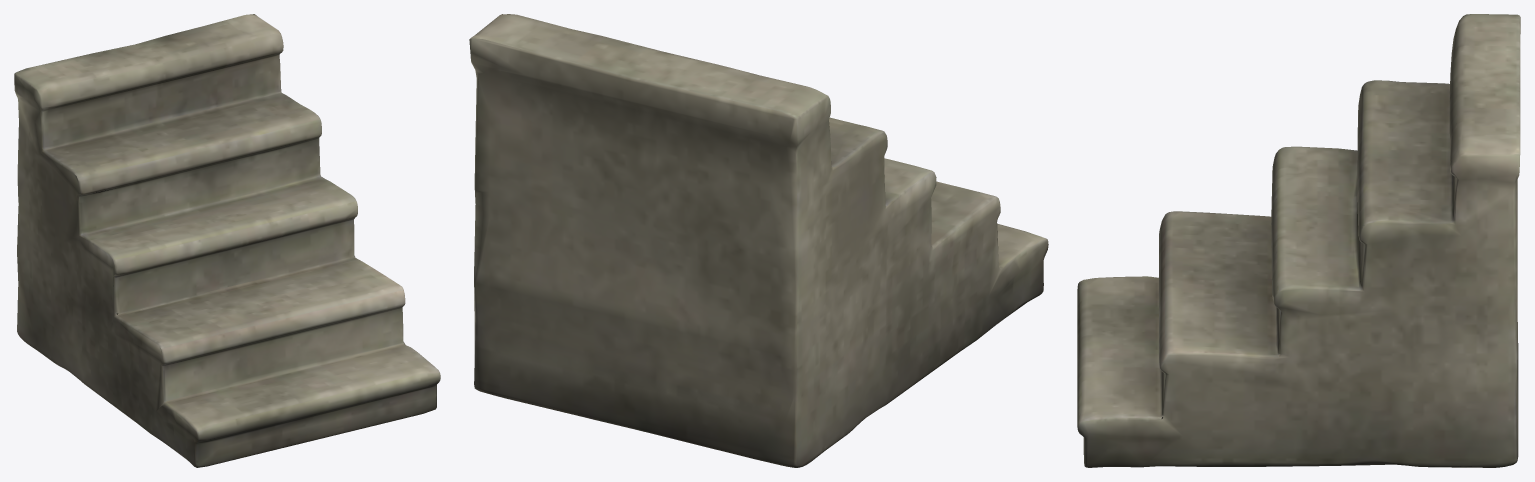
Rendered from chipped-limestone-steps-v001.glb.
The picture shows the model from 3 angles, left to right: view 1: azimuth 30°, elevation 25°; view 2: azimuth 150°, elevation 25°; view 3: azimuth 270°, elevation 25°; orthographic projection. The views are drawn at different scales.
Parts seen in each view (by area): view 1: chipped-limestone-steps; view 2: chipped-limestone-steps; view 3: chipped-limestone-steps.
Boxes of the visible parts, left/top/right/bottom form: chipped-limestone-steps: left=14, top=14, right=440, bottom=467; chipped-limestone-steps: left=469, top=14, right=1048, bottom=467; chipped-limestone-steps: left=1077, top=14, right=1520, bottom=467.
Size of the model in its own units: 0.6315 by 0.6596 by 0.8314.
Materials: 1 (1 with a texture image).
